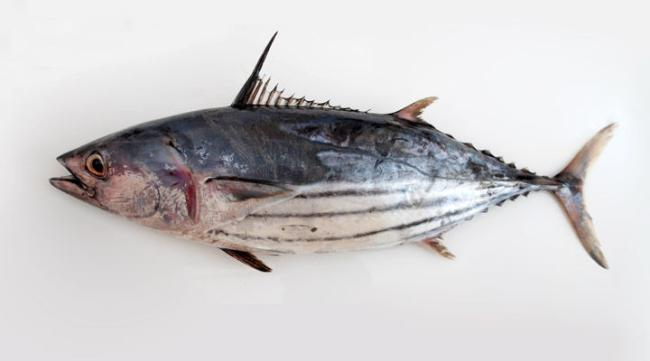fish: (49, 30, 618, 275)
